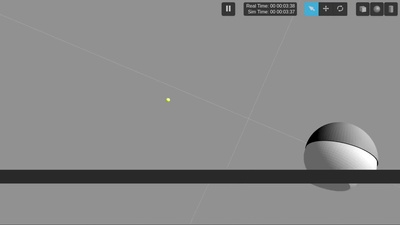mira_robot: (305, 121, 380, 192)
